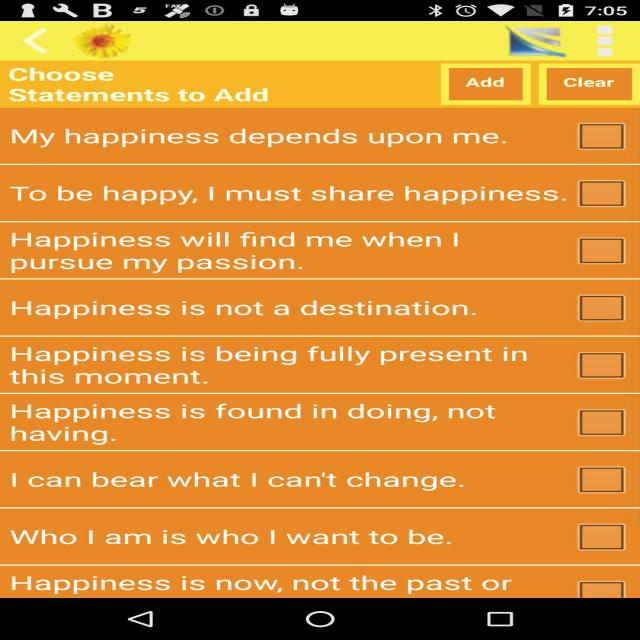button: (578, 120, 638, 595), (457, 72, 624, 99)
icon: (590, 26, 635, 68), (14, 27, 55, 58)
image: (487, 22, 583, 60), (75, 26, 152, 57)
text: (4, 64, 573, 602), (555, 74, 620, 95)
